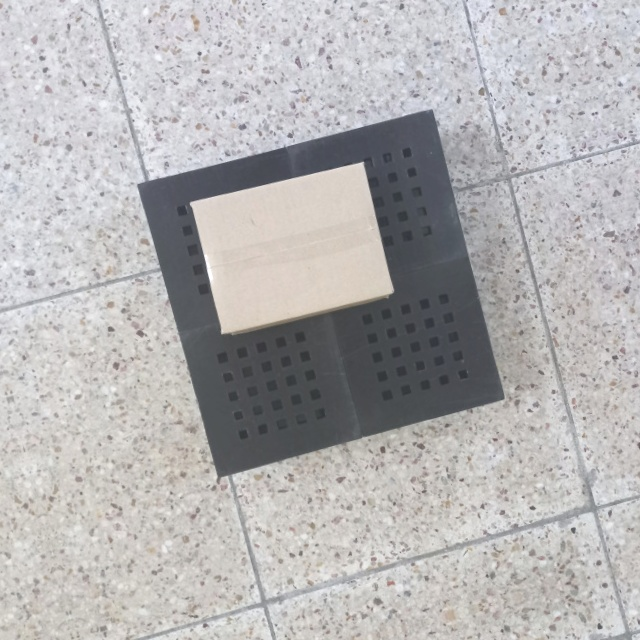box: (185, 158, 400, 340)
pallet: (134, 100, 508, 493)
